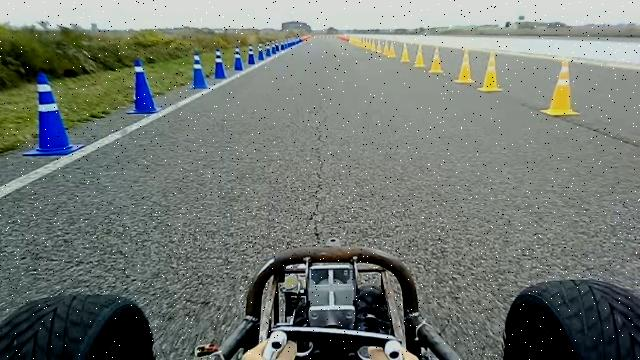blue cone: (22, 71, 84, 156), (125, 58, 162, 114), (190, 51, 209, 89), (214, 48, 227, 79), (234, 45, 244, 71), (247, 44, 255, 64), (257, 43, 264, 60)
yellow cone: (540, 60, 580, 116), (477, 50, 503, 92), (454, 47, 476, 83), (428, 45, 443, 74), (413, 44, 425, 68), (400, 42, 410, 62), (387, 42, 396, 58), (382, 40, 389, 56), (376, 40, 382, 53), (370, 40, 376, 52)
